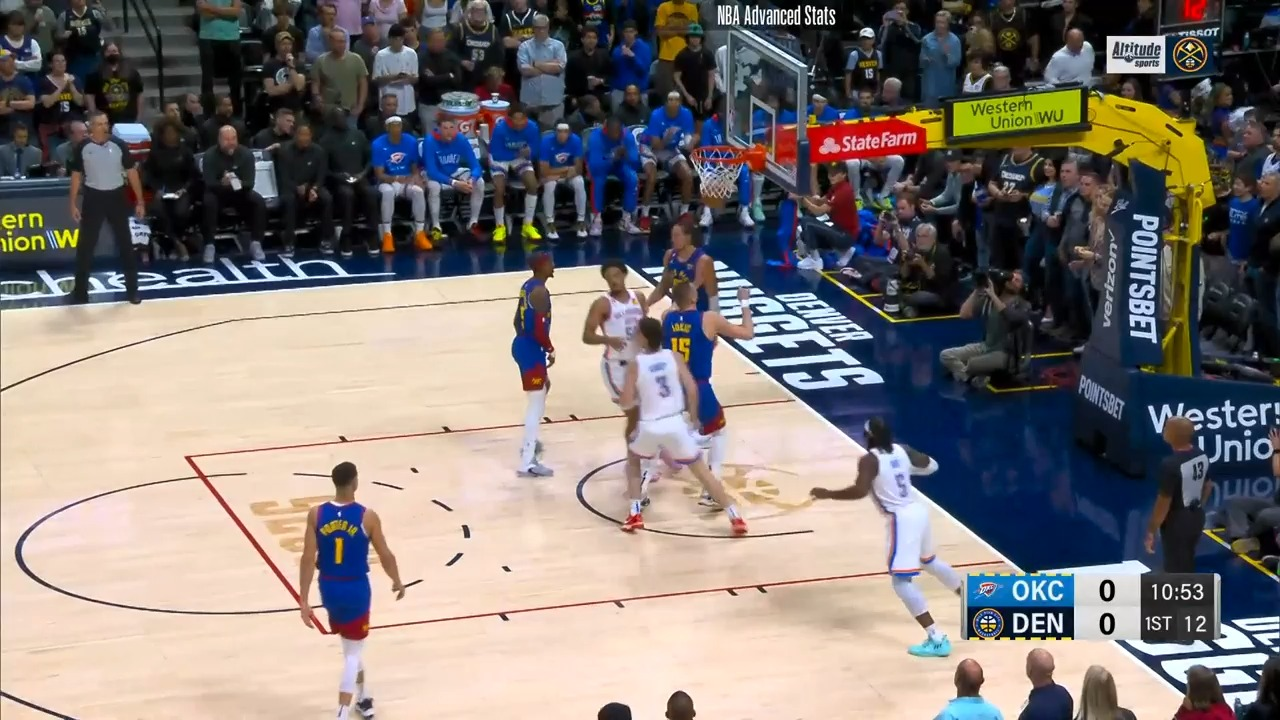net: (686, 137, 767, 209)
player: (810, 413, 972, 662), (297, 460, 417, 720), (615, 315, 745, 537), (653, 273, 760, 510), (578, 260, 652, 469), (512, 254, 576, 490), (650, 213, 725, 316)
referee: (66, 113, 149, 314), (1140, 417, 1209, 578)
